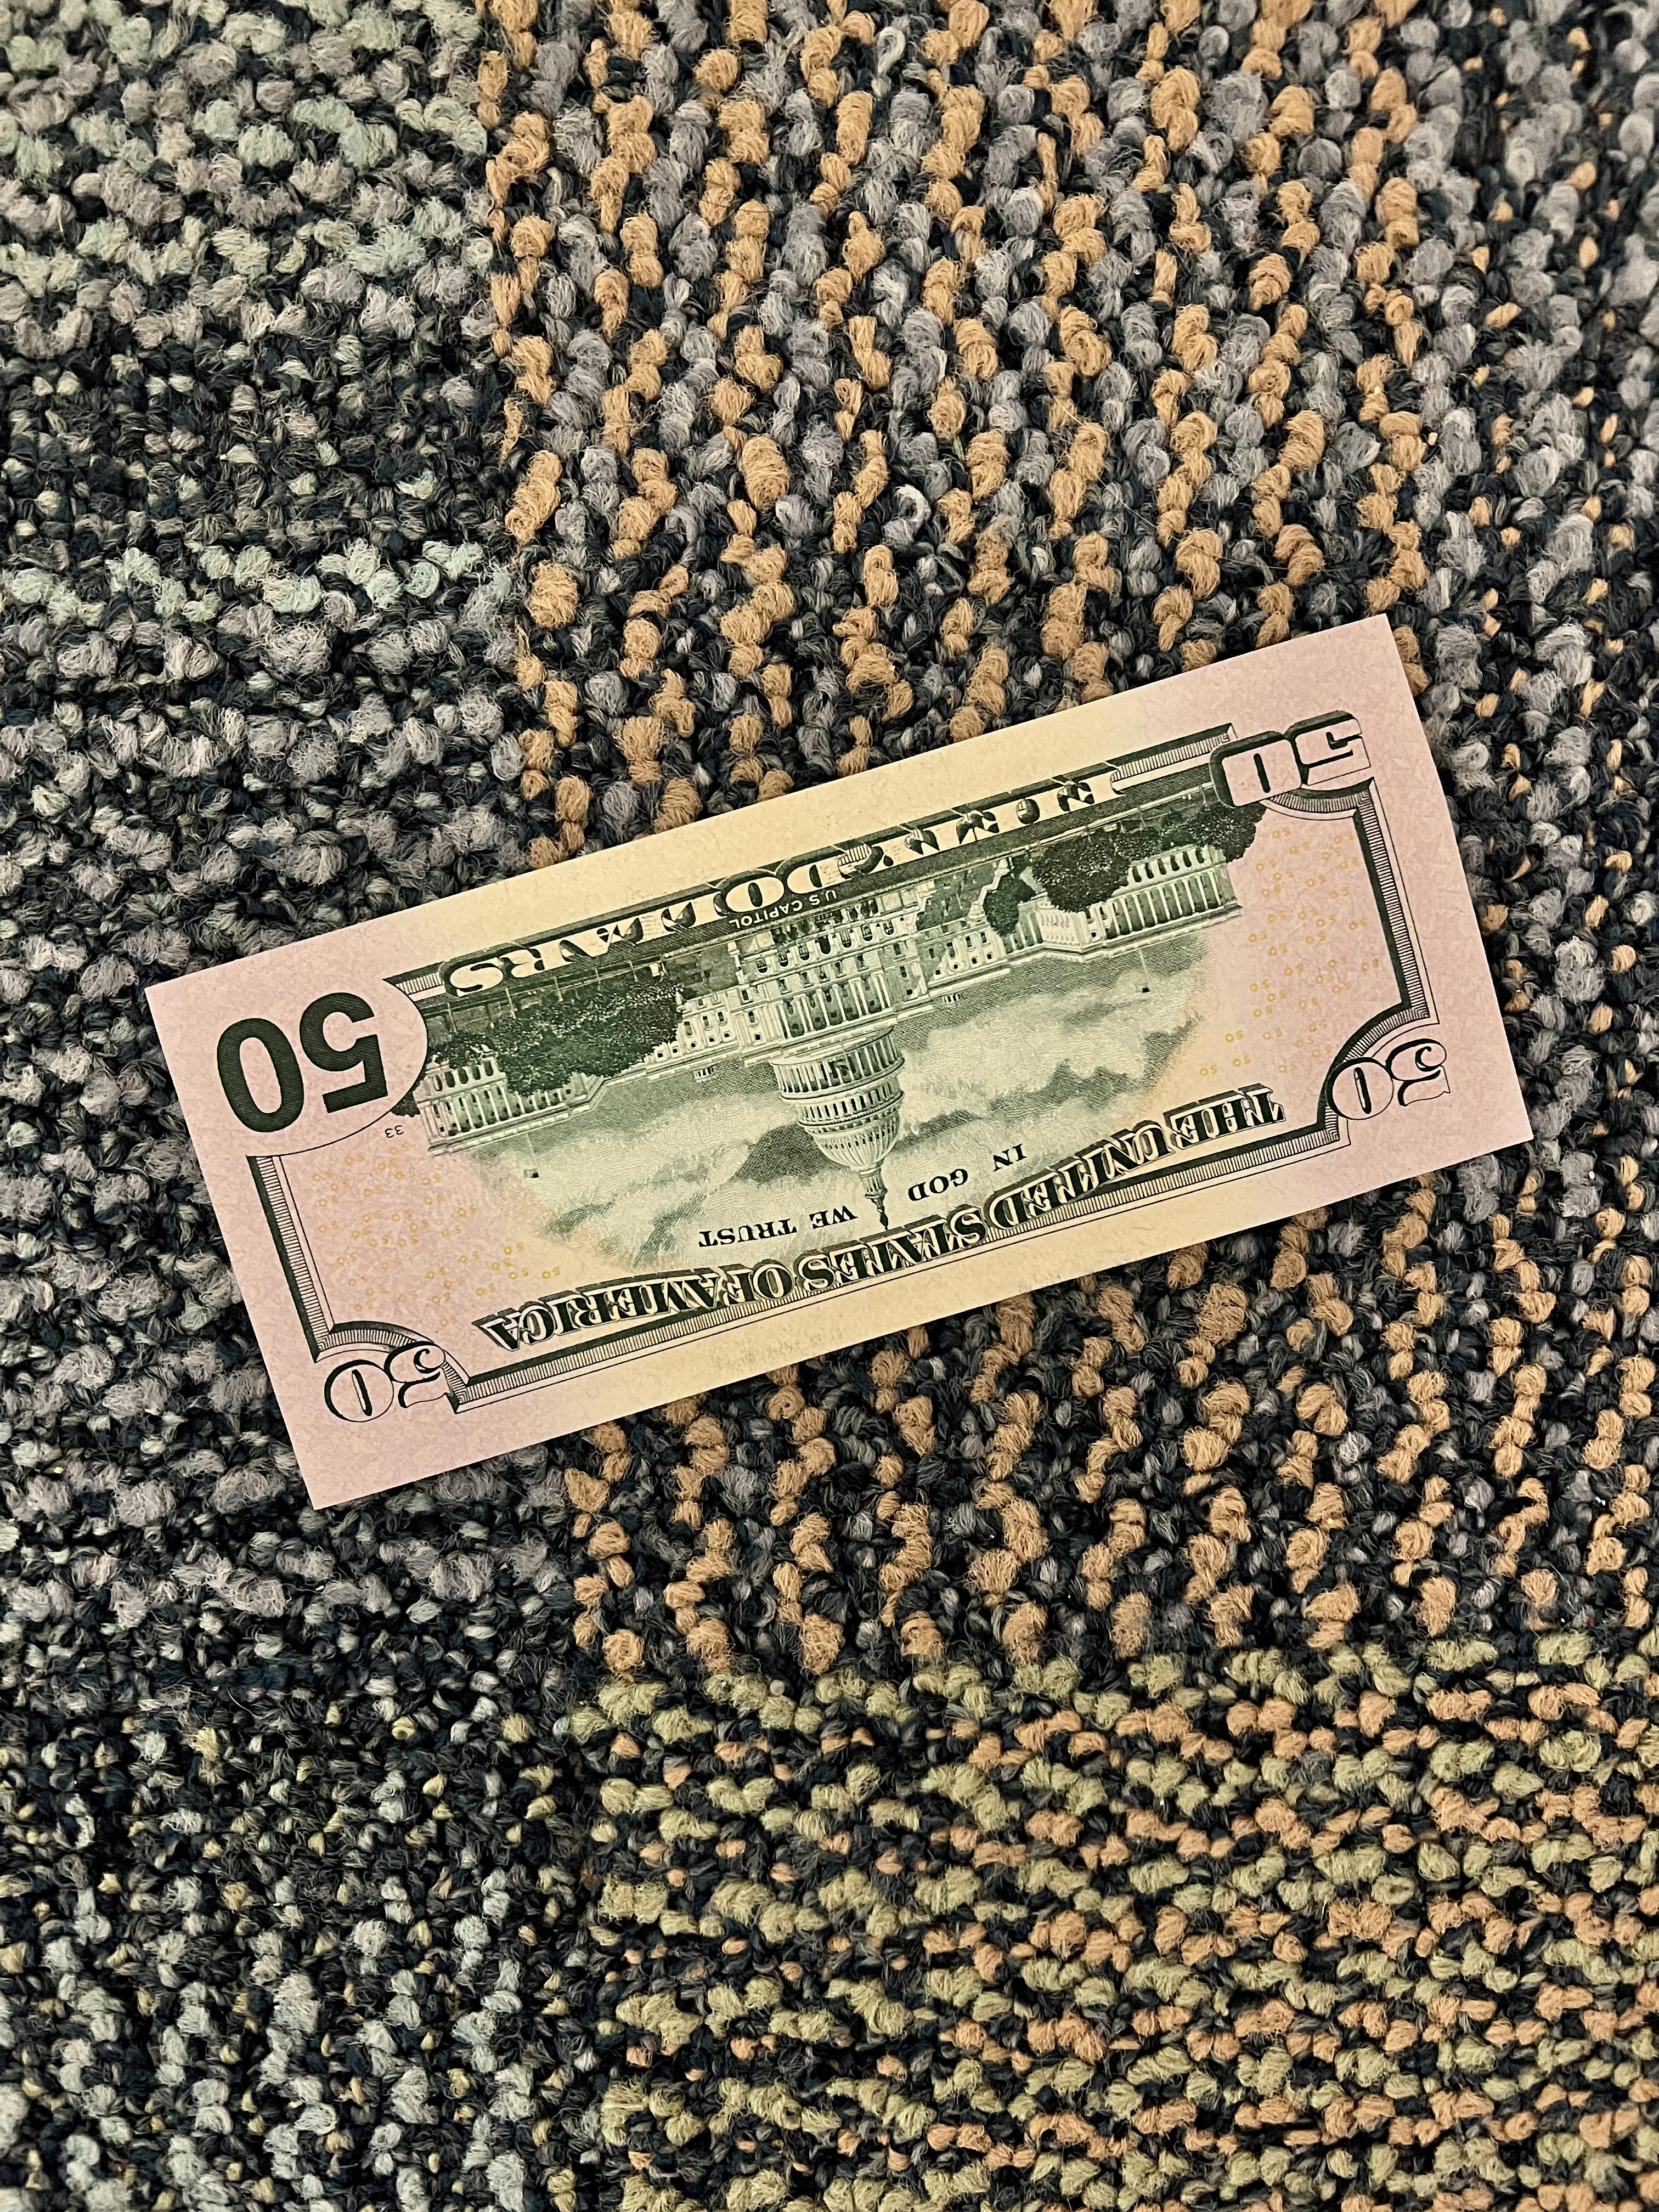FiftyBill: (150, 603, 1549, 1517)
